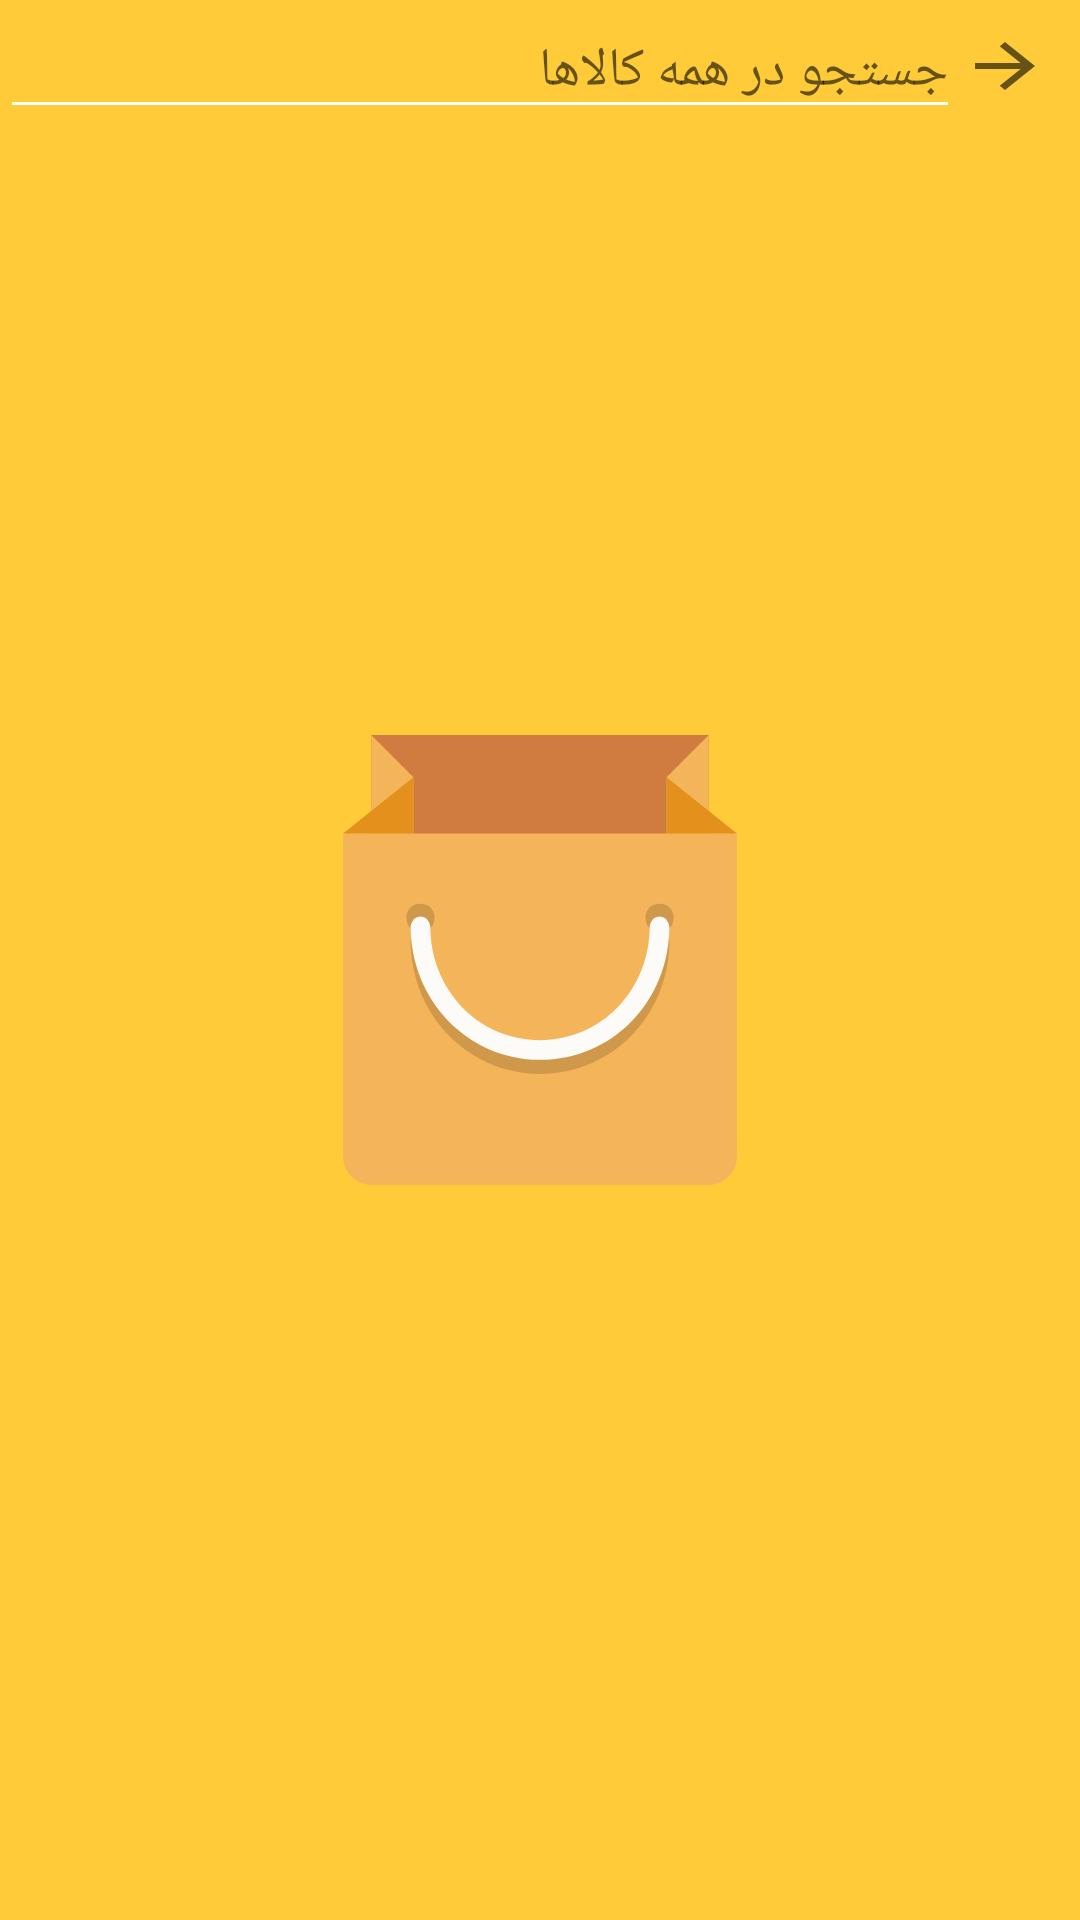

Where to tap for icons on this 1080px×1920px app screen, as (x,y):
arrow forward: (1005,66)
